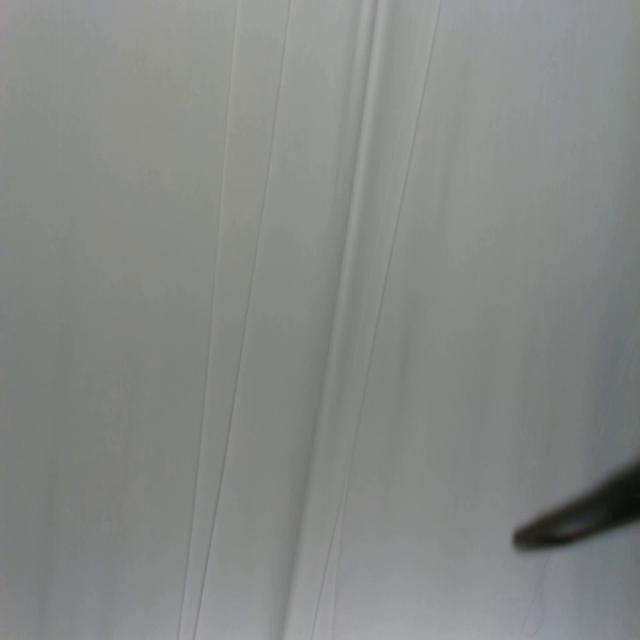crease: (309, 0, 441, 638), (177, 0, 292, 639)
